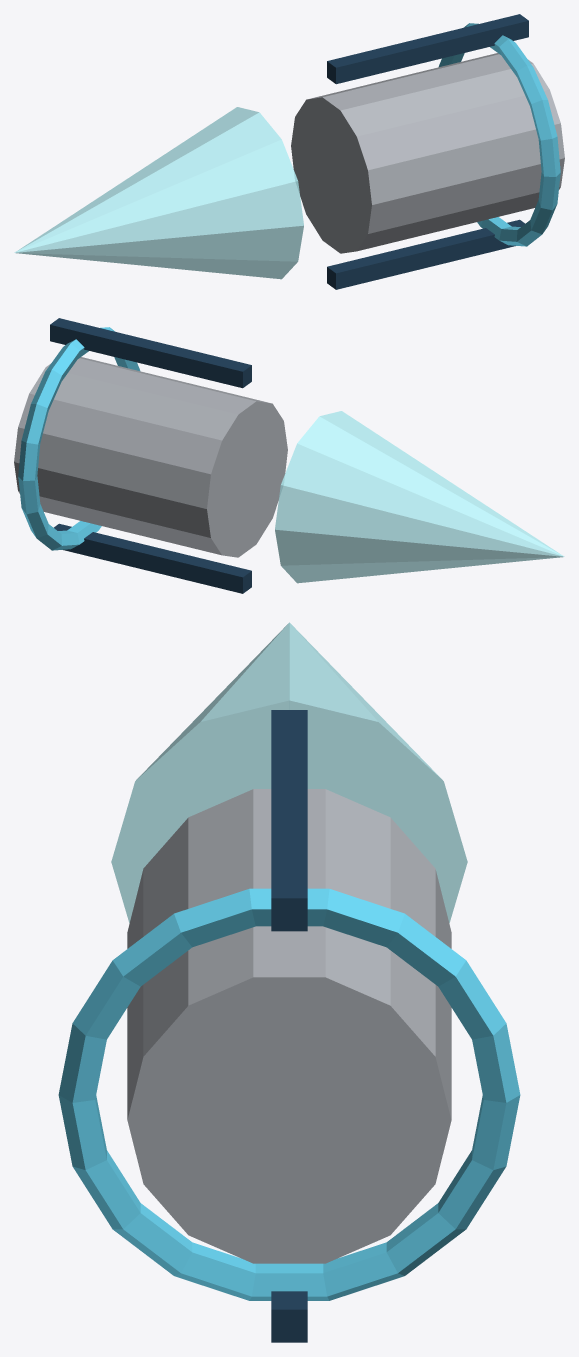
The model's file is 06_skyship_engine.glb.
3 views of the same model, one above another, from view 1: azimuth 30°, elevation 25°; view 2: azimuth 150°, elevation 25°; view 3: azimuth 270°, elevation 25° (orthographic). The views are drawn at different scales.
Parts seen in each view (by area): view 1: engine_core, thruster_plume, engine_ring, mount_strut_r, mount_strut_l; view 2: engine_core, thruster_plume, engine_ring, mount_strut_r, mount_strut_l; view 3: engine_core, engine_ring, thruster_plume, mount_strut_r, mount_strut_l.
Part boxes in pixels (left/top/right/bottom): engine_core: left=291, top=53, right=564, bottom=253; thruster_plume: left=14, top=107, right=303, bottom=279; engine_ring: left=438, top=23, right=560, bottom=246; mount_strut_r: left=327, top=14, right=528, bottom=84; mount_strut_l: left=327, top=219, right=524, bottom=289; engine_core: left=14, top=357, right=287, bottom=557; thruster_plume: left=275, top=411, right=564, bottom=583; engine_ring: left=18, top=327, right=140, bottom=550; mount_strut_r: left=50, top=318, right=251, bottom=388; mount_strut_l: left=54, top=523, right=251, bottom=593; engine_core: left=127, top=789, right=451, bottom=1263; engine_ring: left=58, top=888, right=520, bottom=1300; thruster_plume: left=111, top=622, right=467, bottom=923; mount_strut_r: left=271, top=710, right=307, bottom=931; mount_strut_l: left=271, top=1291, right=307, bottom=1342.
Size of the model in its own units: 1.05 by 0.4356 by 0.4104.
